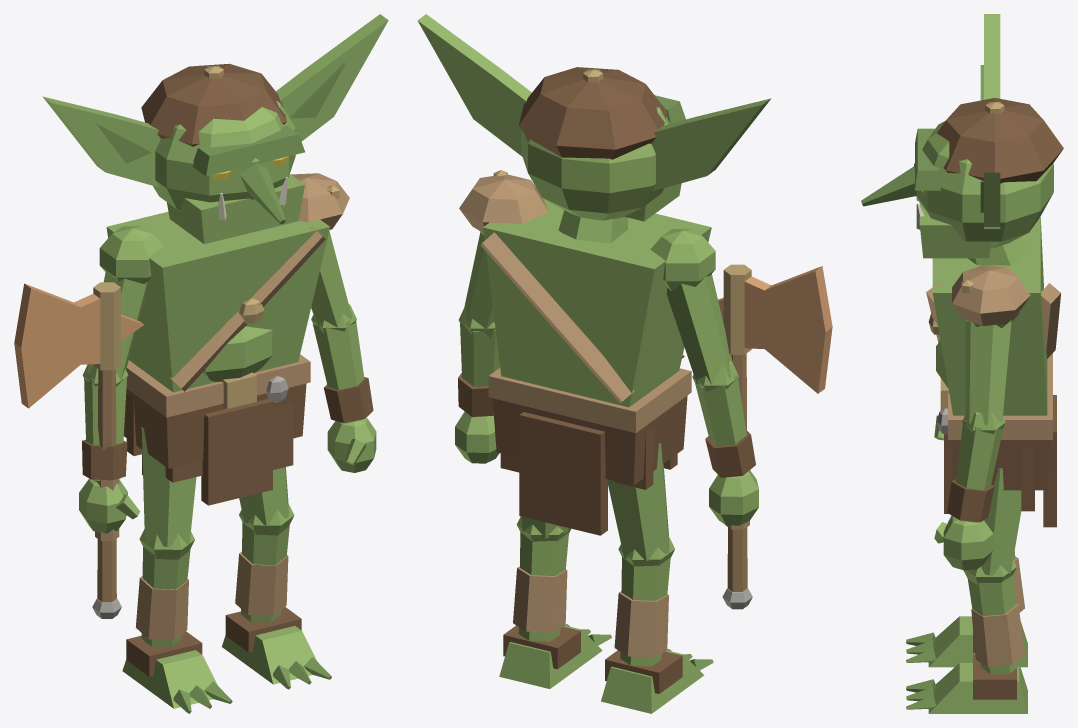
The model's file is cr-raider.glb.
3 views of the same model, side by side, from view 1: azimuth 30°, elevation 25°; view 2: azimuth 150°, elevation 25°; view 3: azimuth 270°, elevation 25° (orthographic). The views are drawn at different scales.
Visible parts, largest first — view 1: torso, head, pelvis, axe, ear_l, ear_r, foot_r, foot_l, thigh_r, forearm_l, shin_l, shin_r (+6 smaller); view 2: torso, pelvis, head, axe, upper_arm_r, ear_l, ear_r, upper_arm_l, shin_r, shin_l, thigh_r, forearm_r (+6 smaller); view 3: head, torso, upper_arm_l, pelvis, foot_l, shin_l, forearm_l, thigh_l, foot_r, hand_l, ear_r, ear_l (+1 smaller).
Boxes of the visible parts, x1,y1,x2,y2 form: torso: [106, 211, 329, 392]; head: [141, 63, 304, 244]; pelvis: [123, 354, 310, 505]; axe: [14, 282, 143, 618]; ear_l: [276, 14, 388, 141]; ear_r: [42, 96, 160, 187]; foot_r: [122, 631, 232, 713]; foot_l: [222, 607, 331, 689]; thigh_r: [139, 427, 196, 559]; forearm_l: [311, 304, 373, 423]; shin_l: [235, 522, 289, 622]; shin_r: [135, 547, 190, 646]; torso: [480, 198, 711, 407]; pelvis: [488, 368, 691, 535]; head: [518, 67, 685, 221]; axe: [718, 264, 832, 609]; upper_arm_r: [650, 229, 732, 384]; ear_l: [417, 14, 531, 156]; ear_r: [651, 98, 771, 191]; upper_arm_l: [459, 170, 548, 332]; shin_r: [614, 557, 670, 666]; shin_l: [513, 532, 568, 641]; thigh_r: [608, 443, 674, 566]; forearm_r: [692, 361, 755, 477]; head: [861, 98, 1063, 258]; torso: [926, 217, 1060, 415]; upper_arm_l: [952, 265, 1030, 425]; pelvis: [937, 353, 1056, 527]; foot_l: [906, 654, 1027, 713]; shin_l: [968, 575, 1024, 674]; forearm_l: [947, 410, 1005, 522]; thigh_l: [963, 468, 1021, 585]; foot_r: [906, 616, 1027, 667]; hand_l: [934, 517, 993, 570]; ear_r: [980, 14, 1000, 100]; ear_l: [980, 172, 1000, 228].
Size of what is drawn, in the model's own units: 0.77 by 1.17 by 0.3675.
